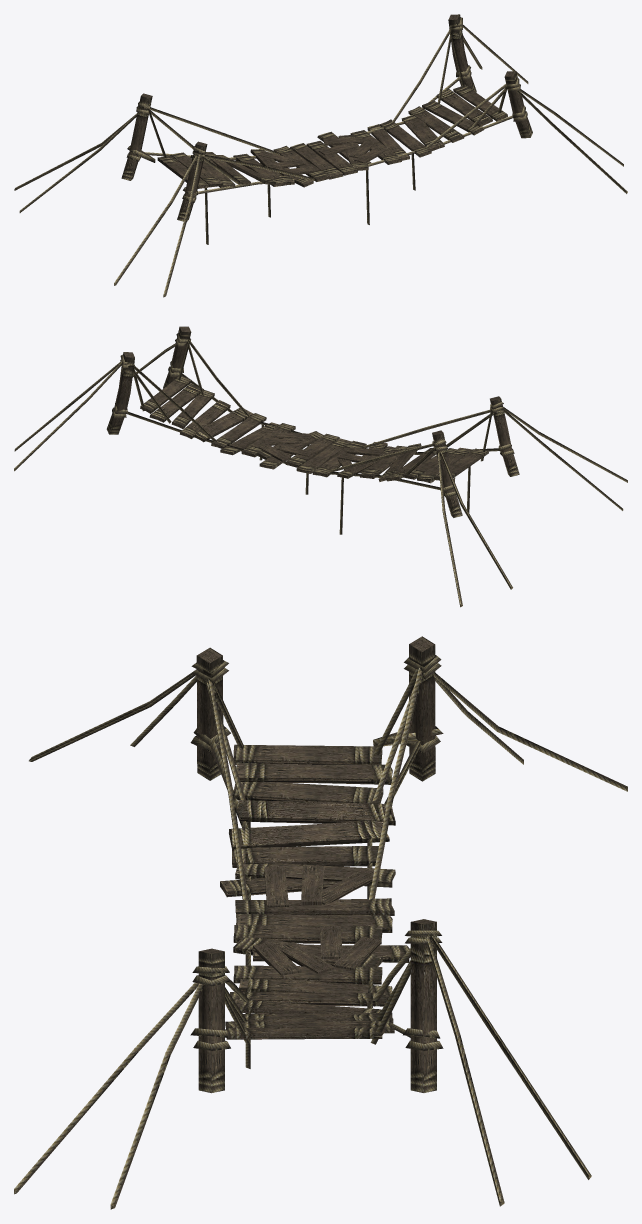
The model's file is wood_dare_type_a.FBX.
3 renders of one model, top to bottom at view 1: azimuth 30°, elevation 25°; view 2: azimuth 150°, elevation 25°; view 3: azimuth 270°, elevation 25°, orthographic. The views are drawn at different scales.
Parts seen in each view (by area): view 1: 10502_wood01; view 2: 10502_wood01; view 3: 10502_wood01.
Boxes of the visible parts, x1,y1,x2,y2 form: 10502_wood01: (14, 14, 627, 297); 10502_wood01: (14, 326, 627, 607); 10502_wood01: (14, 636, 627, 1209).
Size of the model in its own units: 46.14 by 12.35 by 25.44.
